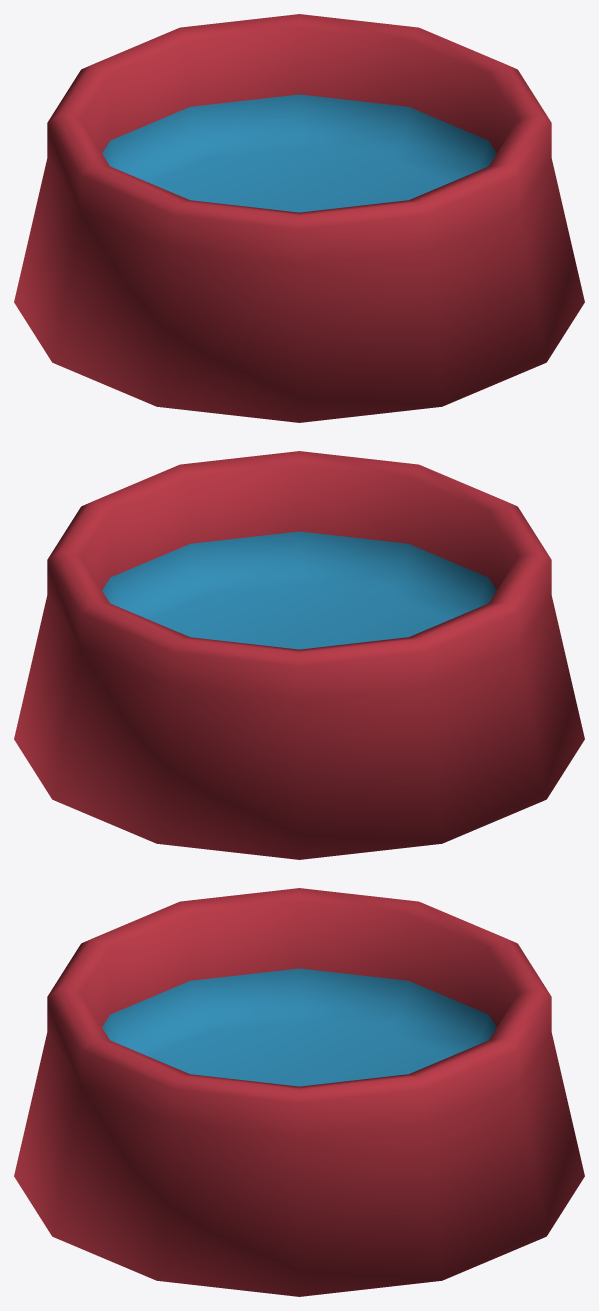
Rendered from Bowl_Outside.glb.
3 views of the same model, one above another, from view 1: azimuth 30°, elevation 25°; view 2: azimuth 150°, elevation 25°; view 3: azimuth 270°, elevation 25° (orthographic).
Visible parts, largest first — view 1: Bowl_Outside; view 2: Bowl_Outside; view 3: Bowl_Outside.
Boxes of the visible parts, x1,y1,x2,y2 form: Bowl_Outside: (14, 14, 584, 422); Bowl_Outside: (14, 451, 584, 859); Bowl_Outside: (14, 888, 584, 1296).
Size of the model in its own units: 0.2138 by 0.0773 by 0.2138.
1 material, 1 textured.
